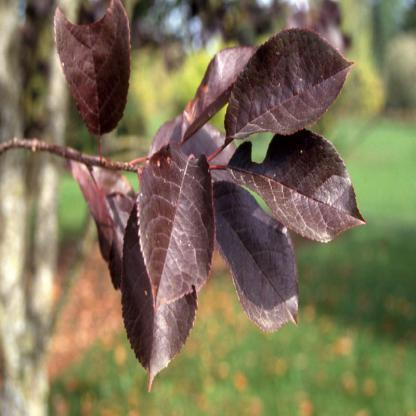Cherry leaf: (226, 128, 374, 251), (220, 22, 362, 146), (204, 172, 310, 334), (47, 5, 150, 148), (140, 141, 218, 299)
